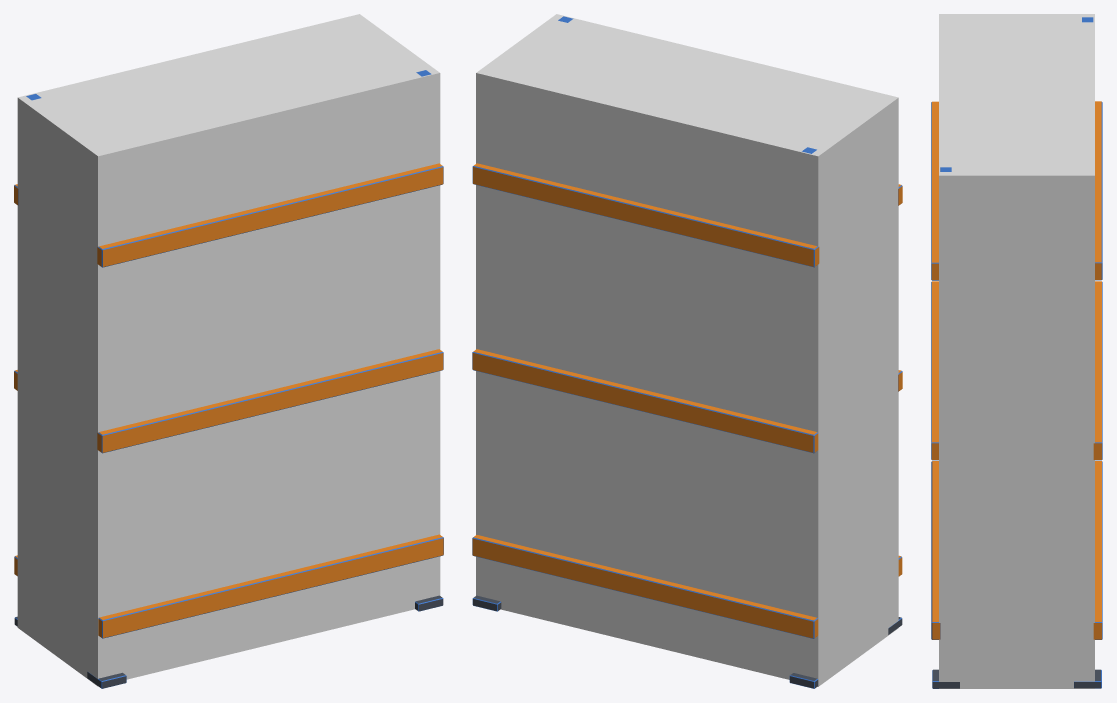
File: prop_rack_a.glb
3 renders of one model, left to right at view 1: azimuth 30°, elevation 25°; view 2: azimuth 150°, elevation 25°; view 3: azimuth 270°, elevation 25°, orthographic. The views are drawn at different scales.
Parts seen in each view (by area): view 1: COL_prop_rack_a_1, prop_rack_a; view 2: COL_prop_rack_a_1, prop_rack_a; view 3: COL_prop_rack_a_1, prop_rack_a.
Boxes of the visible parts, left/top/right/bottom form: COL_prop_rack_a_1: left=17, top=14, right=440, bottom=686; prop_rack_a: left=14, top=70, right=443, bottom=688; COL_prop_rack_a_1: left=476, top=14, right=898, bottom=686; prop_rack_a: left=472, top=16, right=902, bottom=688; COL_prop_rack_a_1: left=939, top=14, right=1094, bottom=688; prop_rack_a: left=931, top=17, right=1102, bottom=688.
Size of the model in its own units: 2.7 by 4 by 1.21.
